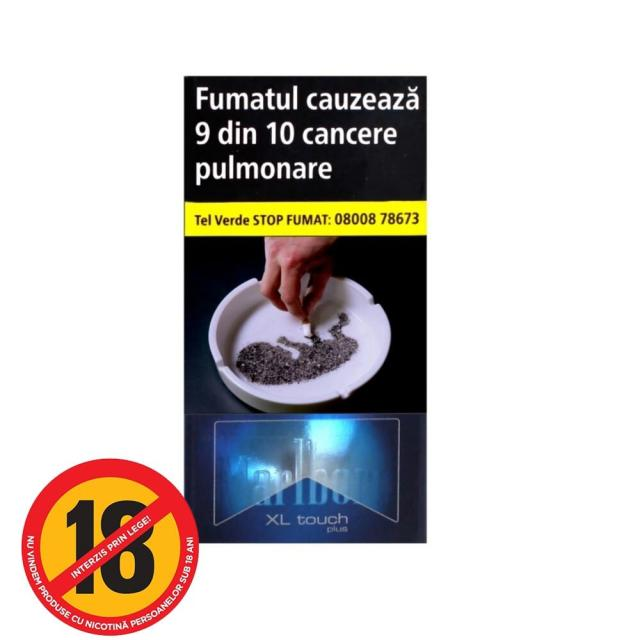marlboro: (182, 78, 430, 545)
